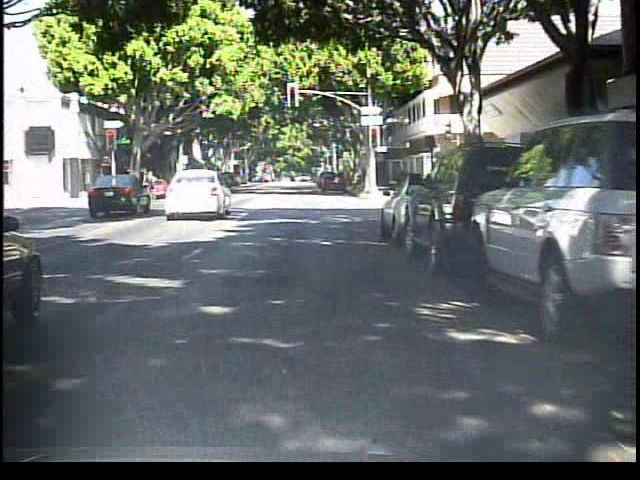person: (143, 165, 161, 192)
